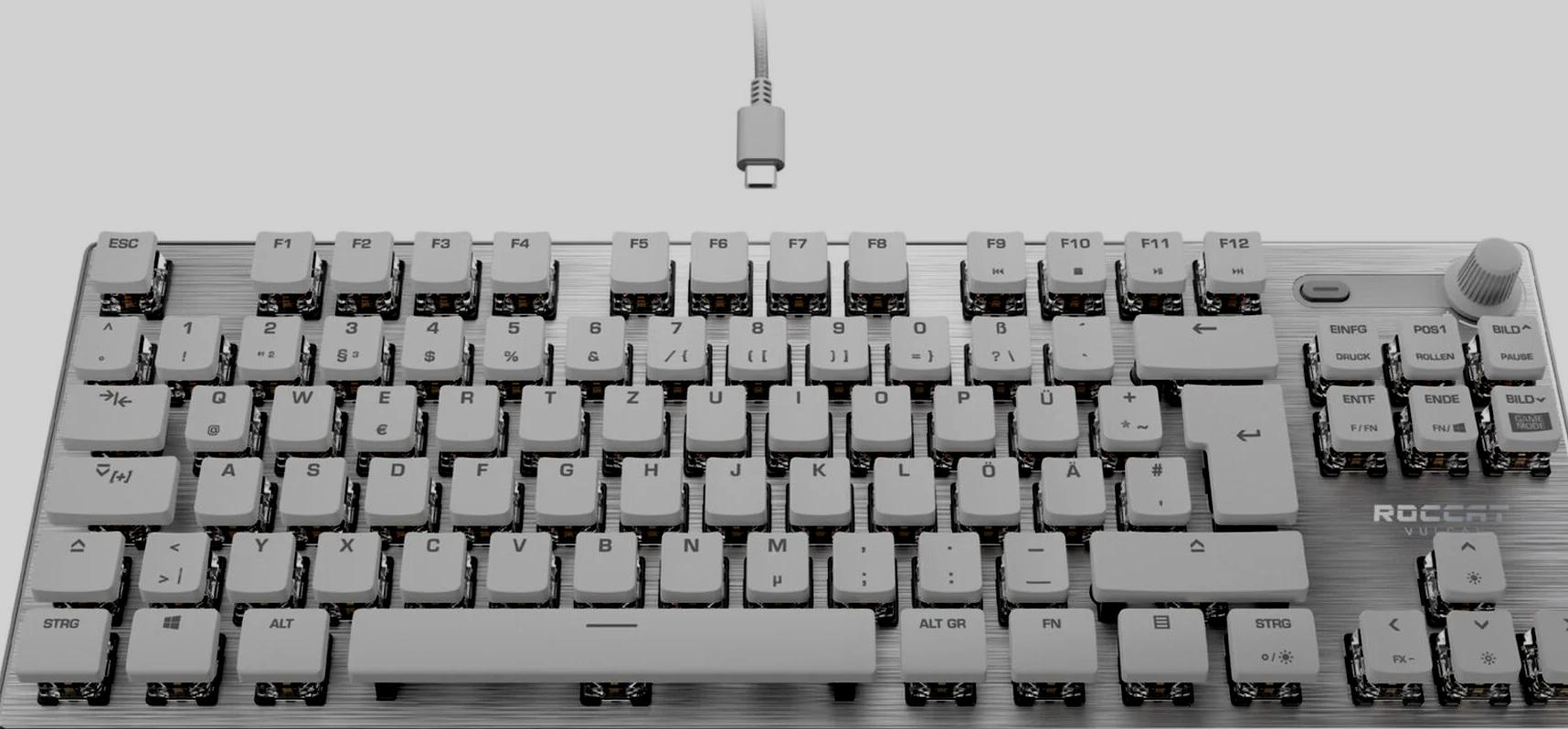0: (885, 309, 950, 375)
1: (150, 309, 218, 374)
2: (232, 311, 300, 374)
3: (313, 310, 381, 375)
4: (394, 310, 462, 375)
5: (474, 311, 544, 375)
6: (557, 311, 626, 376)
7: (640, 311, 706, 375)
8: (722, 311, 787, 378)
9: (803, 311, 869, 376)
a: (190, 451, 258, 515)
accent: (1047, 311, 1111, 374)
ae: (1037, 450, 1105, 515)
alt-left: (236, 605, 329, 683)
altgr-right: (897, 604, 987, 680)
b: (568, 525, 636, 593)
c: (393, 525, 464, 592)
caret: (67, 312, 136, 373)
comma: (826, 525, 894, 597)
d: (359, 451, 427, 514)
del: (1129, 310, 1276, 370)
e: (345, 378, 415, 447)
enter: (1178, 379, 1298, 517)
f: (444, 451, 511, 513)
g: (530, 452, 595, 512)
h: (614, 451, 680, 514)
hash: (1120, 451, 1189, 518)
i: (765, 379, 828, 441)
j: (700, 451, 764, 516)
k: (784, 450, 849, 516)
keyboard: (1, 213, 1568, 729)
l: (868, 450, 934, 515)
less: (133, 524, 207, 597)
m: (740, 525, 809, 600)
minus: (997, 525, 1068, 597)
n: (655, 524, 722, 595)
o: (846, 378, 910, 441)
oe: (952, 451, 1019, 515)
p: (928, 378, 993, 440)
plus: (1092, 378, 1161, 444)
point: (912, 525, 981, 596)
q: (179, 378, 249, 447)
r: (430, 379, 496, 441)
s: (273, 451, 343, 516)
shift-left: (20, 523, 122, 592)
shift-lock: (37, 449, 177, 514)
shift-right: (1082, 525, 1309, 592)
space: (340, 602, 883, 680)
ss: (964, 311, 1031, 376)
strg-left: (5, 600, 111, 678)
strg-right: (1223, 601, 1319, 682)
t: (514, 379, 578, 439)
tab: (52, 378, 166, 440)
u: (682, 379, 745, 441)
ue: (1012, 379, 1077, 441)
v: (482, 525, 549, 592)
w: (263, 378, 333, 442)
x: (307, 526, 377, 592)
y: (220, 526, 292, 593)
z: (597, 379, 662, 440)
